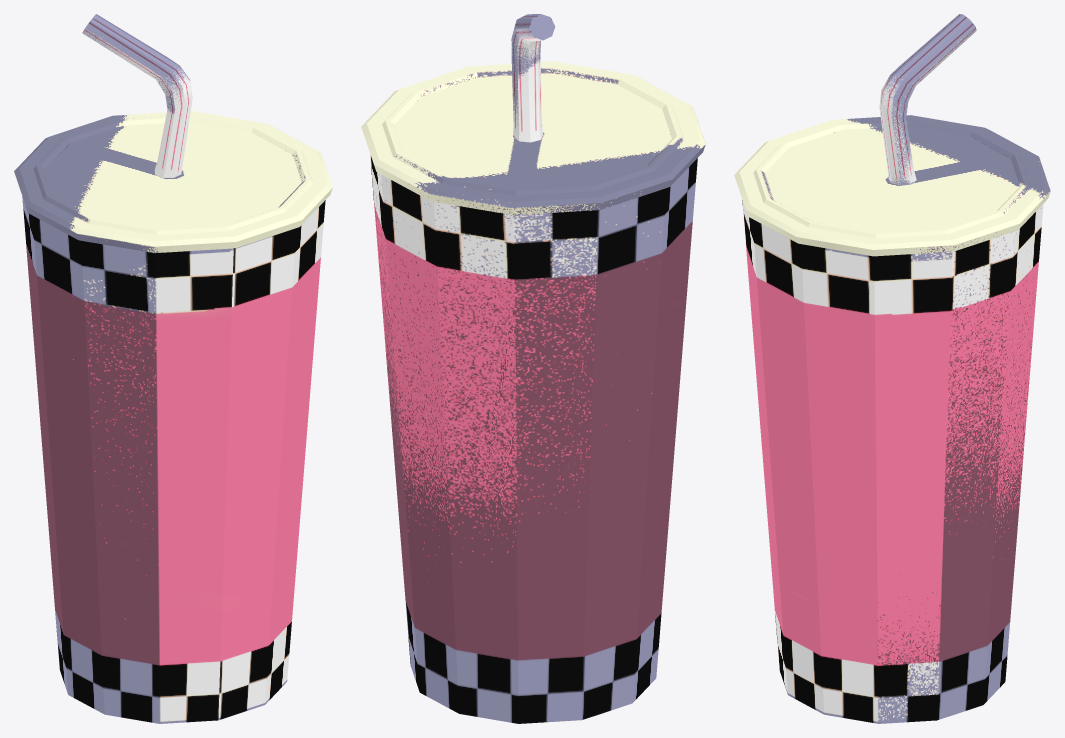
File: tower_moe_scene.glb
3 views of the same model, side by side, from view 1: azimuth 30°, elevation 25°; view 2: azimuth 150°, elevation 25°; view 3: azimuth 270°, elevation 25° (orthographic). The views are drawn at different scales.
Parts seen in each view (by area): view 1: cup_player; view 2: cup_player; view 3: cup_player.
Boxes of the visible parts, x1=… form: cup_player: x1=14, y1=14, x2=332, y2=723; cup_player: x1=361, y1=14, x2=705, y2=723; cup_player: x1=734, y1=14, x2=1050, y2=723.
Size of the model in its own units: 0.2278 by 0.5086 by 0.2278.
Materials: 1 (1 with a texture image).
